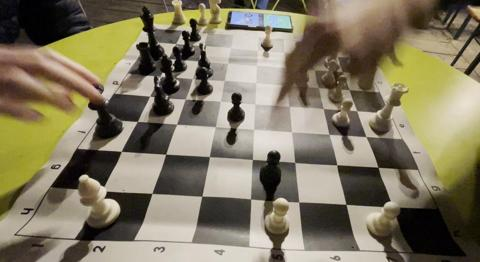xcorner: (250, 76, 261, 87), (343, 83, 354, 94), (251, 59, 262, 70), (146, 186, 157, 196), (245, 191, 255, 202), (293, 194, 303, 205), (160, 147, 171, 157), (247, 152, 257, 163), (289, 155, 300, 165), (373, 160, 383, 171), (171, 116, 181, 127), (248, 122, 259, 132), (361, 129, 371, 140), (215, 94, 225, 105), (249, 97, 260, 107), (284, 99, 294, 110), (164, 52, 174, 63), (222, 57, 233, 67), (308, 64, 319, 74), (171, 38, 181, 49), (198, 40, 208, 51), (278, 47, 289, 57), (96, 183, 106, 193), (196, 189, 206, 199), (341, 197, 351, 207), (388, 200, 398, 210), (116, 144, 126, 154), (204, 150, 214, 160), (331, 158, 341, 168), (132, 114, 142, 124), (210, 119, 220, 129), (286, 124, 296, 134), (324, 127, 334, 137), (145, 89, 155, 99), (180, 92, 190, 102), (318, 102, 328, 112), (351, 104, 361, 114), (155, 69, 165, 79), (187, 72, 197, 82), (219, 74, 229, 84), (282, 79, 292, 89), (313, 81, 323, 91), (193, 55, 203, 65), (280, 62, 290, 72), (337, 66, 347, 76), (225, 43, 235, 53), (252, 45, 262, 55), (305, 49, 315, 59), (331, 51, 341, 61)
